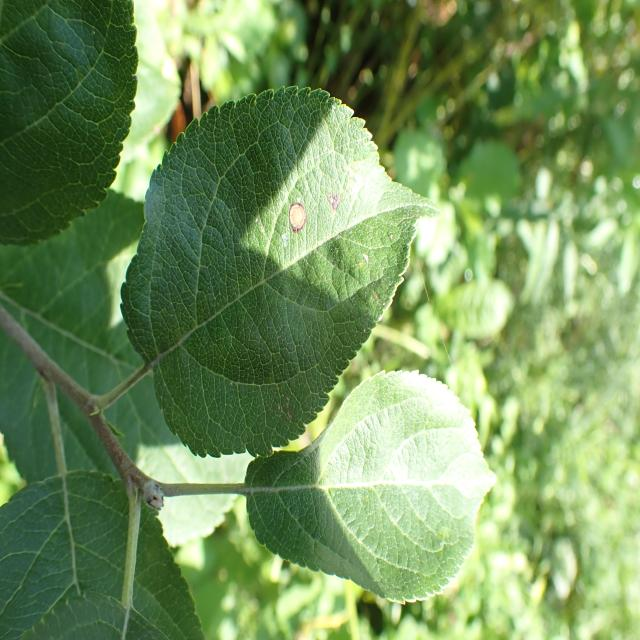Black Rot: (287, 185, 311, 248), (322, 173, 344, 223)
